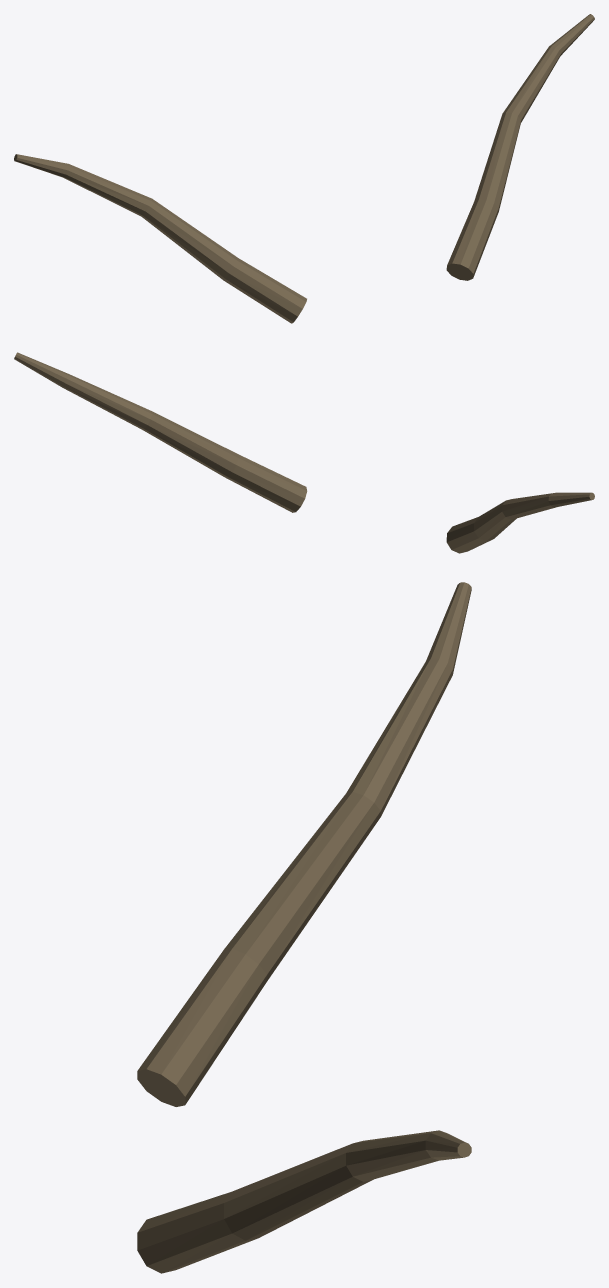
File: antenna.glb
3 views of the same model, one above another, from view 1: azimuth 30°, elevation 25°; view 2: azimuth 150°, elevation 25°; view 3: azimuth 270°, elevation 25° (orthographic). The views are drawn at different scales.
Parts seen in each view (by area): view 1: beetle_antennae_original; view 2: beetle_antennae_original; view 3: beetle_antennae_original.
Part boxes in pixels (x1,y1,x2,y2): beetle_antennae_original: [14, 14, 594, 323]; beetle_antennae_original: [14, 352, 594, 553]; beetle_antennae_original: [137, 582, 471, 1273].
Size of the model in its own units: 1.59 by 0.4273 by 0.3968.
